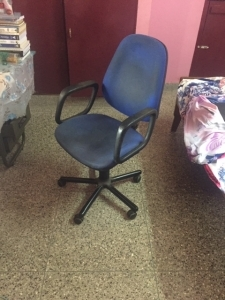chair: (54, 34, 169, 225)
